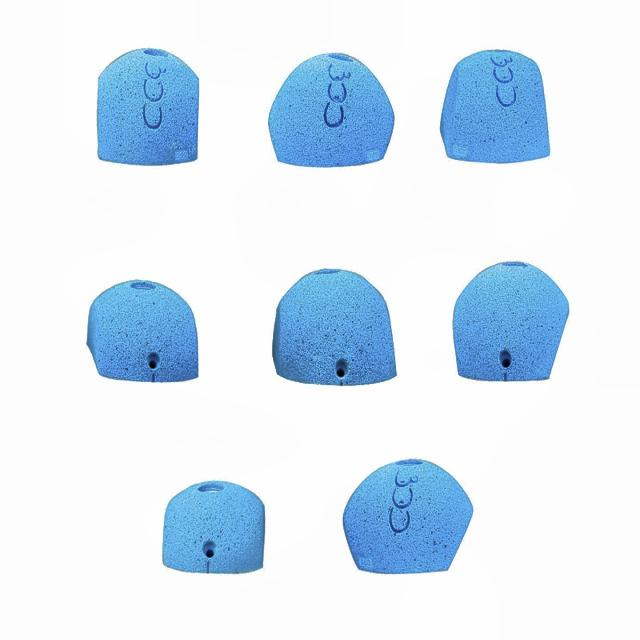Hold: (337, 452, 473, 580), (269, 264, 405, 391), (448, 255, 569, 382), (270, 51, 389, 163), (89, 278, 201, 386), (446, 55, 552, 169), (159, 476, 268, 577), (98, 64, 206, 163)
